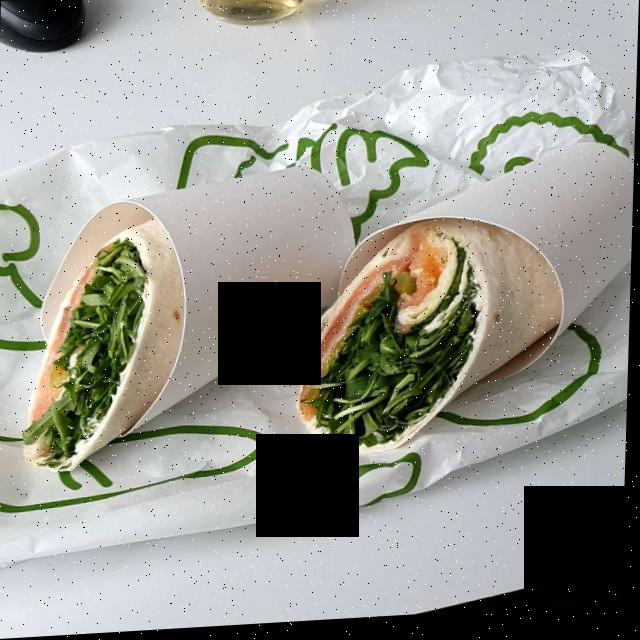fajita-bread-only: (10, 221, 542, 478)
salmon-smoked: (364, 252, 439, 323)
